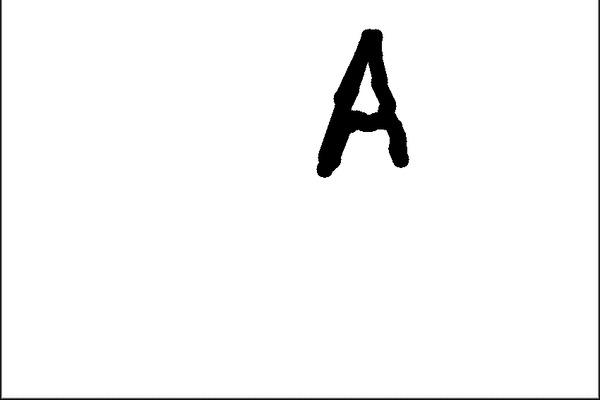A: (304, 16, 418, 180)
